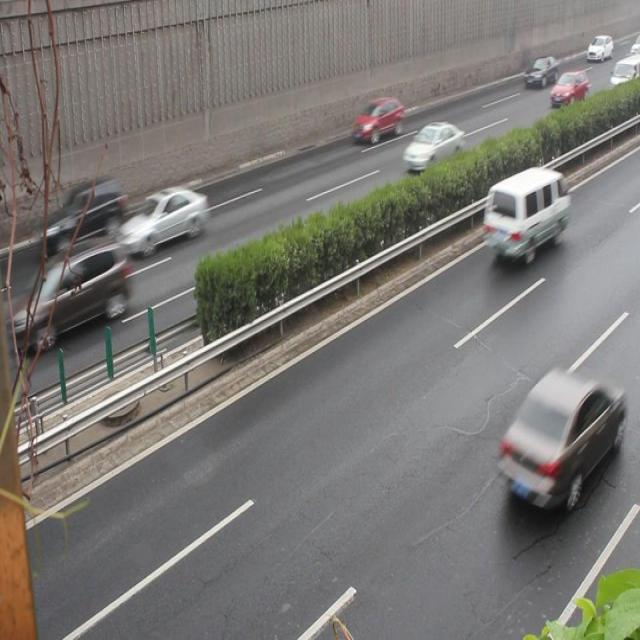car: (498, 367, 618, 508), (27, 237, 128, 343), (34, 174, 126, 265), (117, 185, 207, 259), (400, 119, 464, 173), (350, 96, 402, 147), (548, 70, 587, 108), (522, 54, 557, 89)
truck: (481, 167, 567, 260)
